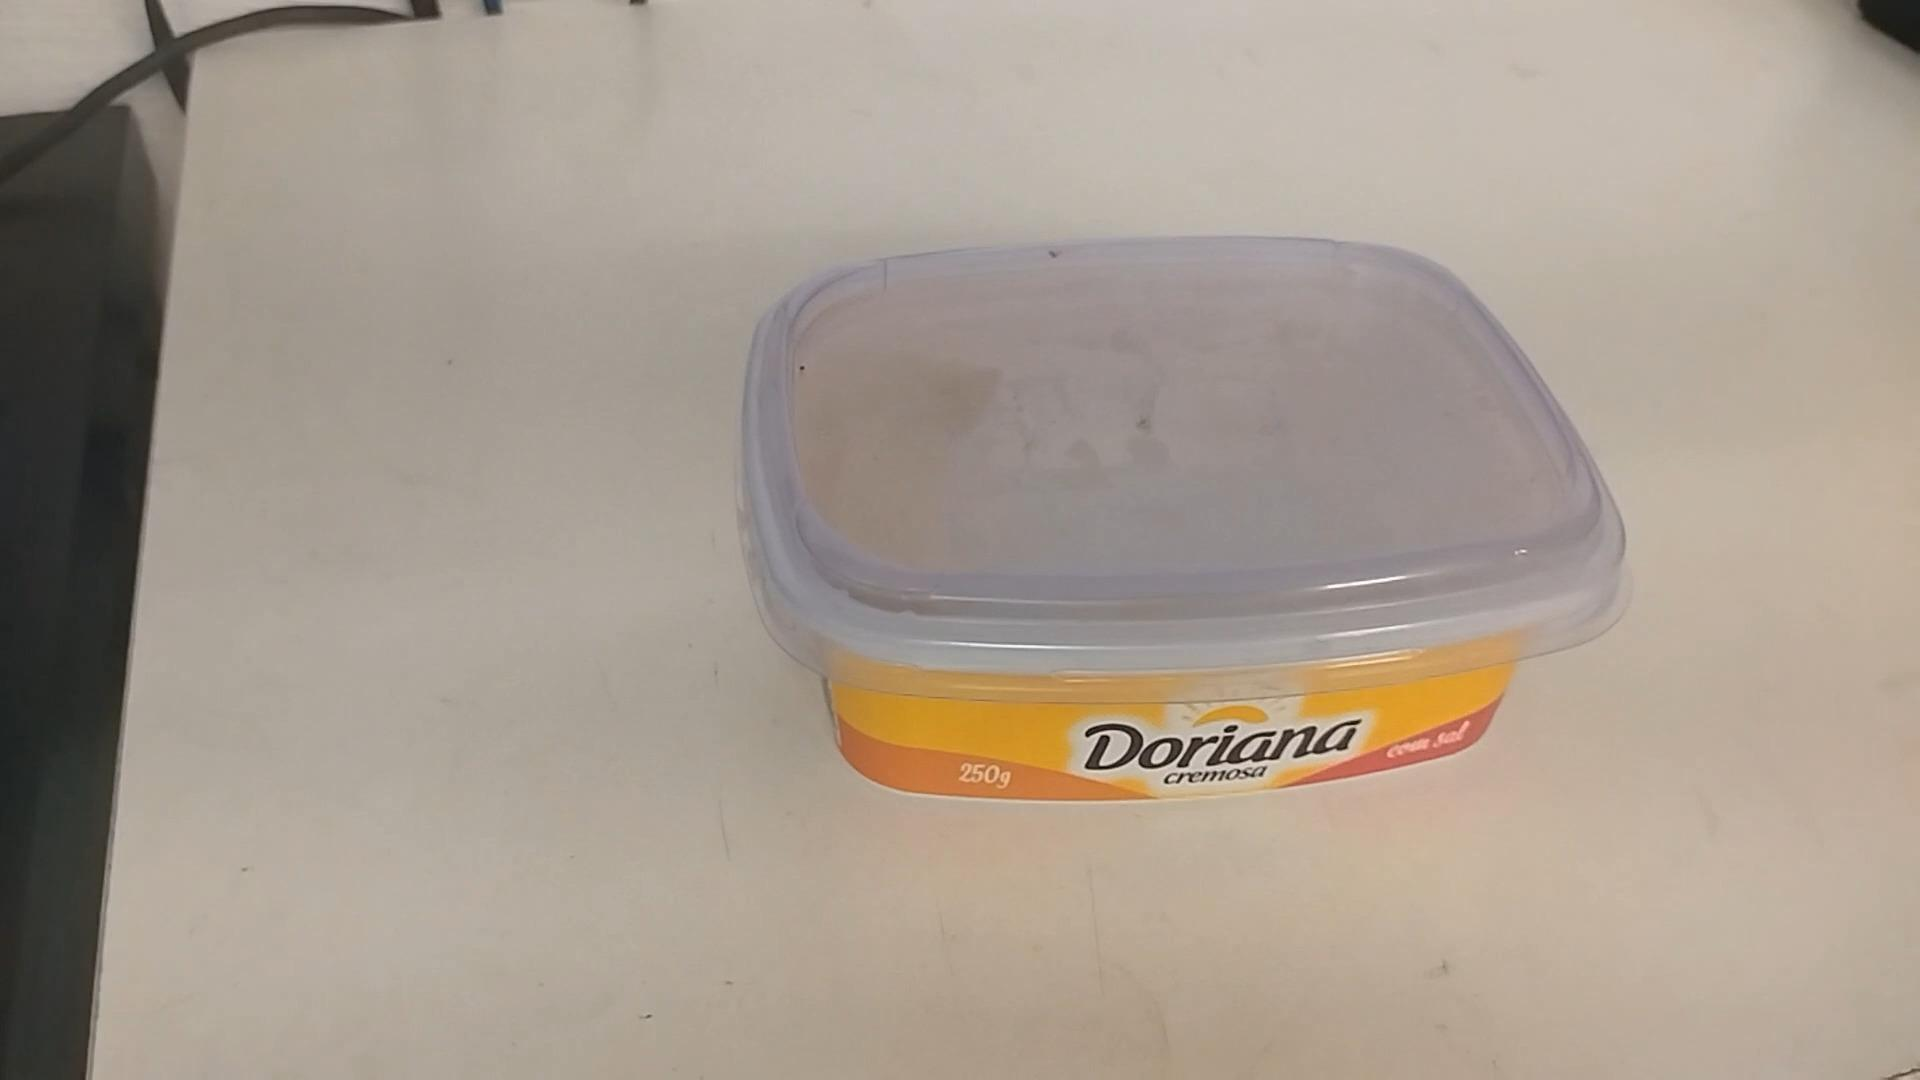butter: (728, 220, 1638, 807)
